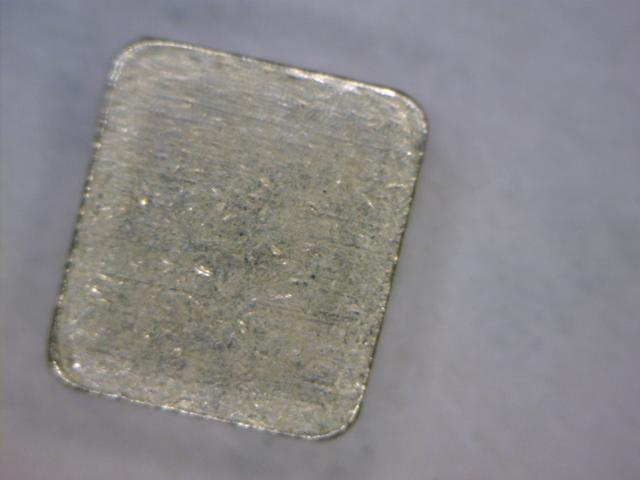ok: (37, 30, 439, 453)
